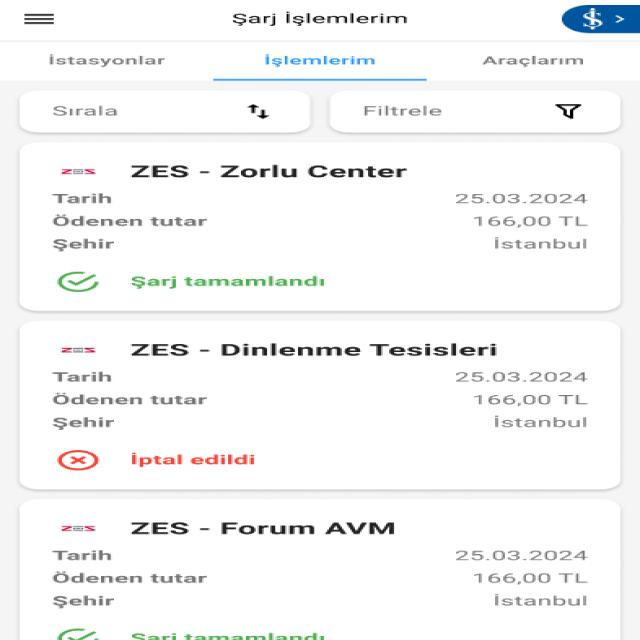QLabel: (118, 339, 505, 360), (125, 162, 414, 184), (124, 519, 405, 539), (224, 10, 416, 30), (122, 274, 326, 289), (46, 569, 212, 586), (45, 392, 217, 408), (444, 188, 594, 206), (36, 53, 180, 71), (446, 369, 592, 386), (48, 213, 213, 228), (456, 392, 596, 409), (448, 548, 590, 564), (123, 452, 259, 468), (460, 213, 594, 229), (250, 54, 384, 68), (124, 631, 329, 640), (462, 572, 590, 586), (471, 55, 588, 70), (481, 235, 590, 251), (481, 415, 594, 429), (485, 594, 592, 608), (40, 416, 122, 431), (358, 104, 444, 118), (50, 104, 124, 119), (48, 191, 120, 206), (50, 548, 117, 564), (49, 370, 115, 386), (45, 236, 115, 251), (44, 595, 118, 609)
VAppBar: (0, 0, 640, 42)
VCard: (12, 318, 622, 492), (18, 142, 622, 312), (12, 497, 622, 640), (328, 90, 622, 135), (18, 91, 313, 134)
VIcon: (51, 269, 106, 294), (48, 448, 105, 472), (48, 626, 104, 640), (238, 102, 277, 122), (546, 102, 586, 120), (20, 11, 58, 26)
VImg: (561, 4, 640, 34), (48, 158, 108, 182), (49, 338, 109, 359), (49, 518, 105, 538)
VTab: (214, 51, 421, 76), (435, 51, 634, 77), (21, 51, 199, 76)
VTabs: (0, 44, 640, 84)
